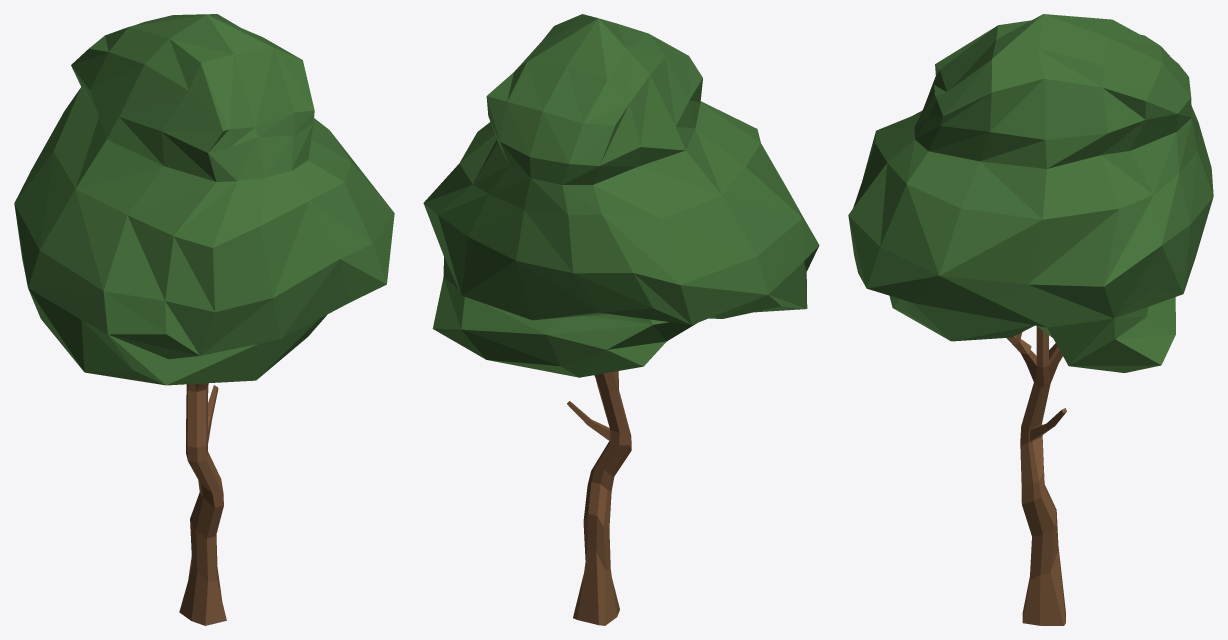
Rendered from Env_Tree01_1.fbx.
3 views of the same model, side by side, from view 1: azimuth 30°, elevation 25°; view 2: azimuth 150°, elevation 25°; view 3: azimuth 270°, elevation 25° (orthographic).
Parts seen in each view (by area): view 1: Env_Tree01_1; view 2: Env_Tree01_1; view 3: Env_Tree01_1.
Part boxes in pixels (left/top/right/bottom): Env_Tree01_1: left=14, top=14, right=394, bottom=625; Env_Tree01_1: left=423, top=14, right=819, bottom=625; Env_Tree01_1: left=848, top=14, right=1213, bottom=625.
Size of what is drawn, in the model's own units: 292 by 286 by 522.
